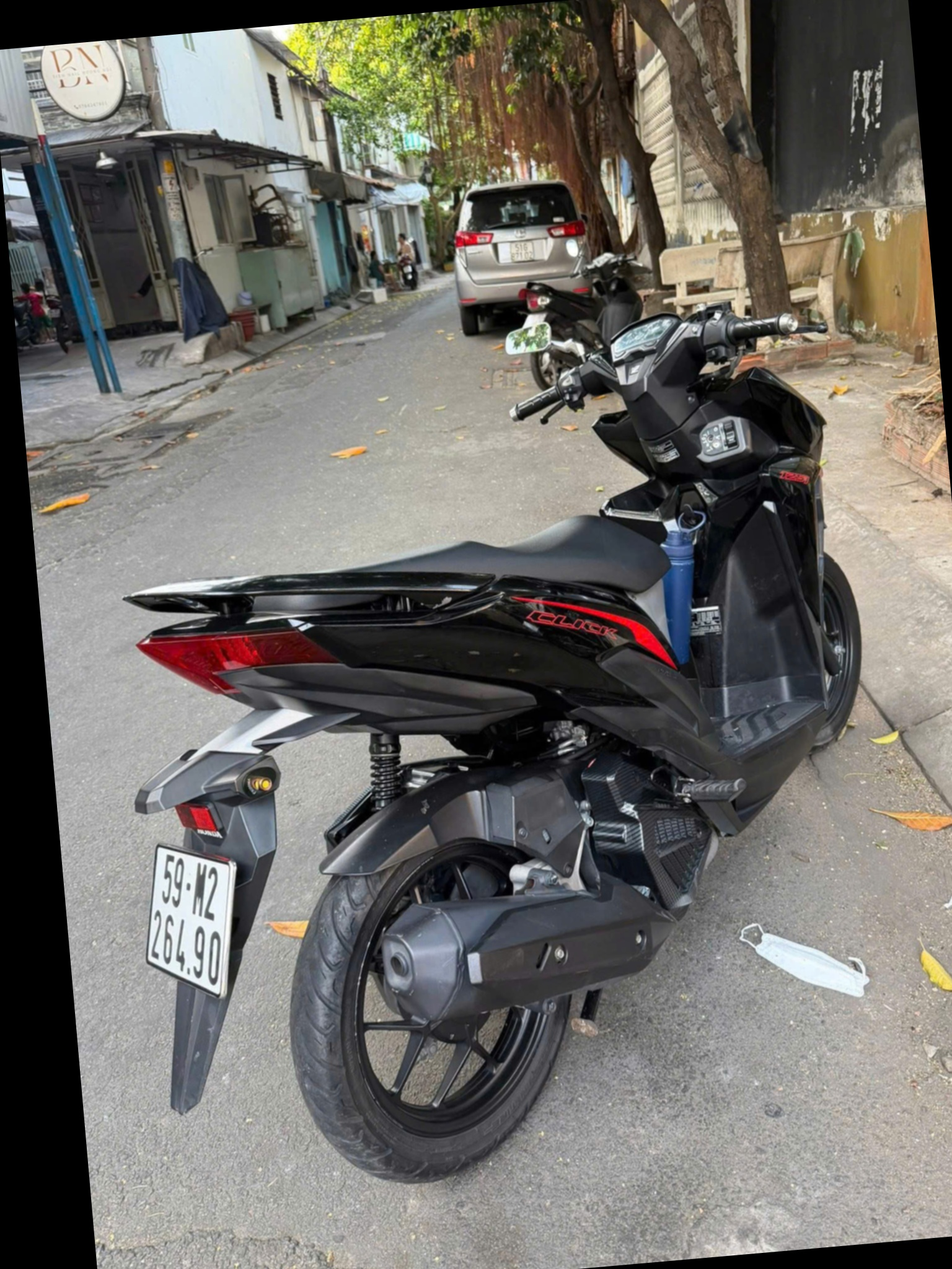Bien-so: (133, 836, 247, 1018), (511, 237, 539, 264)
